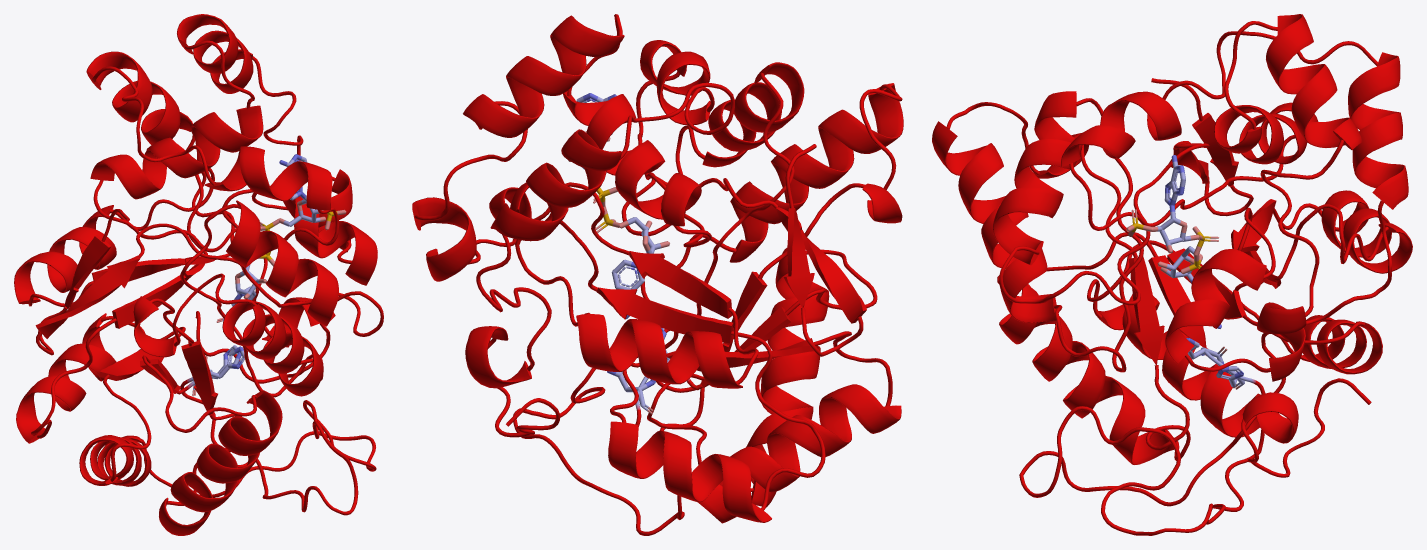
The model's file is XRT_1.gltf.
The picture shows the model from 3 angles, left to right: view 1: azimuth 30°, elevation 25°; view 2: azimuth 150°, elevation 25°; view 3: azimuth 270°, elevation 25°; orthographic projection. The views are drawn at different scales.
Parts seen in each view (by area): view 1: node-geom176, node-geom175, node-geom177; view 2: node-geom176, node-geom175, node-geom177; view 3: node-geom175, node-geom176, node-geom177.
Part boxes in pixels (x1,y1,x2,y2): node-geom176: (14,14,377,486); node-geom175: (35,200,383,535); node-geom177: (86,51,339,383); node-geom176: (412,14,901,523); node-geom175: (513,62,903,535); node-geom177: (465,40,734,437); node-geom175: (932,78,1265,535); node-geom176: (1071,14,1412,437); node-geom177: (1061,31,1408,477).
Bounding box in the file's own units: 4.27e-09 × 5.33e-09 × 4.6e-09.
